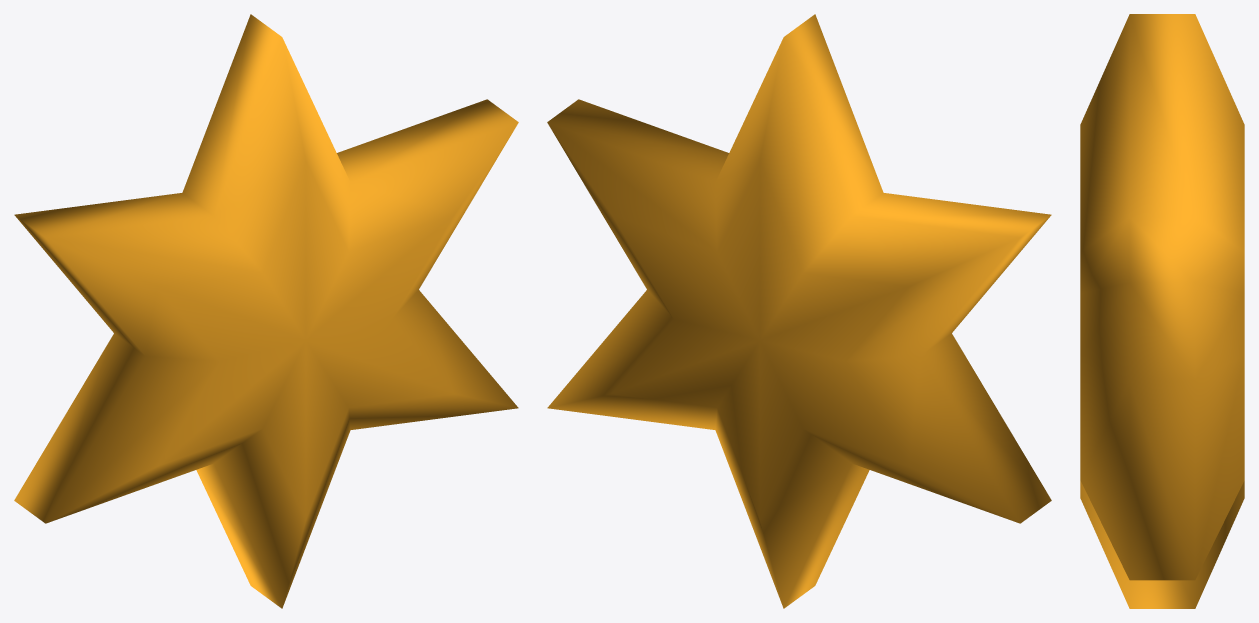
The model's file is 03-STAR-06.fbx.
3 views of the same model, side by side, from view 1: azimuth 30°, elevation 25°; view 2: azimuth 150°, elevation 25°; view 3: azimuth 270°, elevation 25° (orthographic). The views are drawn at different scales.
Visible parts, largest first — view 1: 03-STAR-06; view 2: 03-STAR-06; view 3: 03-STAR-06.
Boxes of the visible parts, x1,y1,x2,y2 form: 03-STAR-06: (14,14,518,608); 03-STAR-06: (547,14,1051,608); 03-STAR-06: (1080,14,1244,608).
Size of the model in its own units: 346 by 400 by 100.
